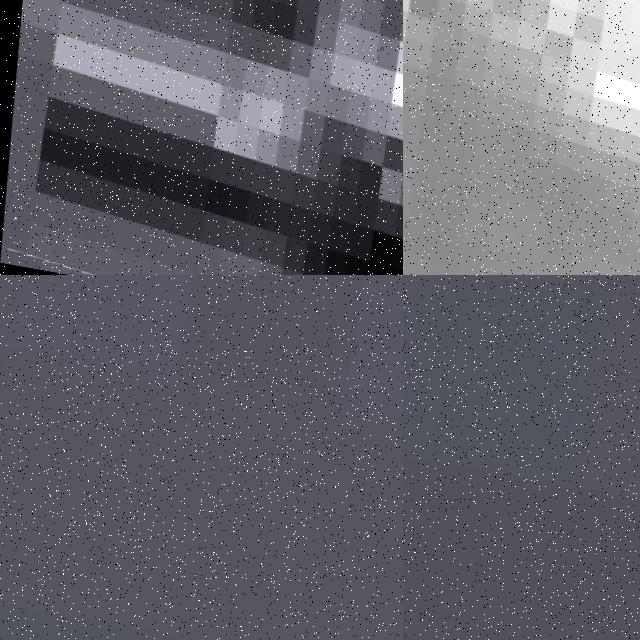0: (0, 0, 403, 275)
drone: (403, 0, 640, 275)
